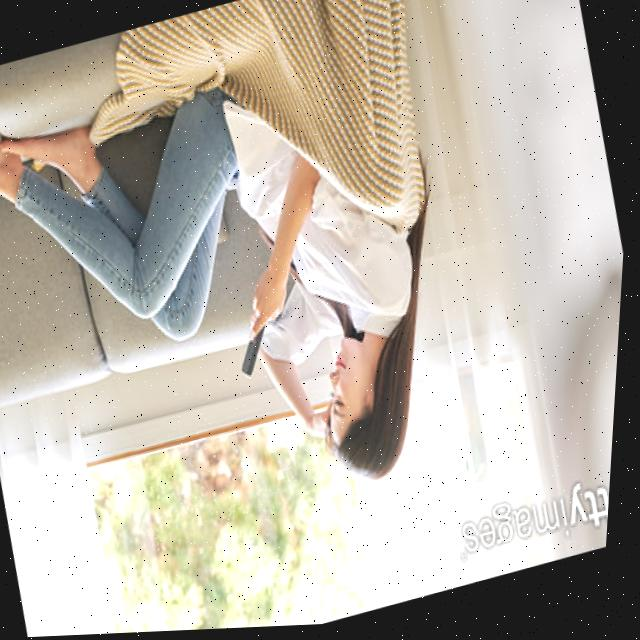smartphone-person: (0, 0, 510, 600)
